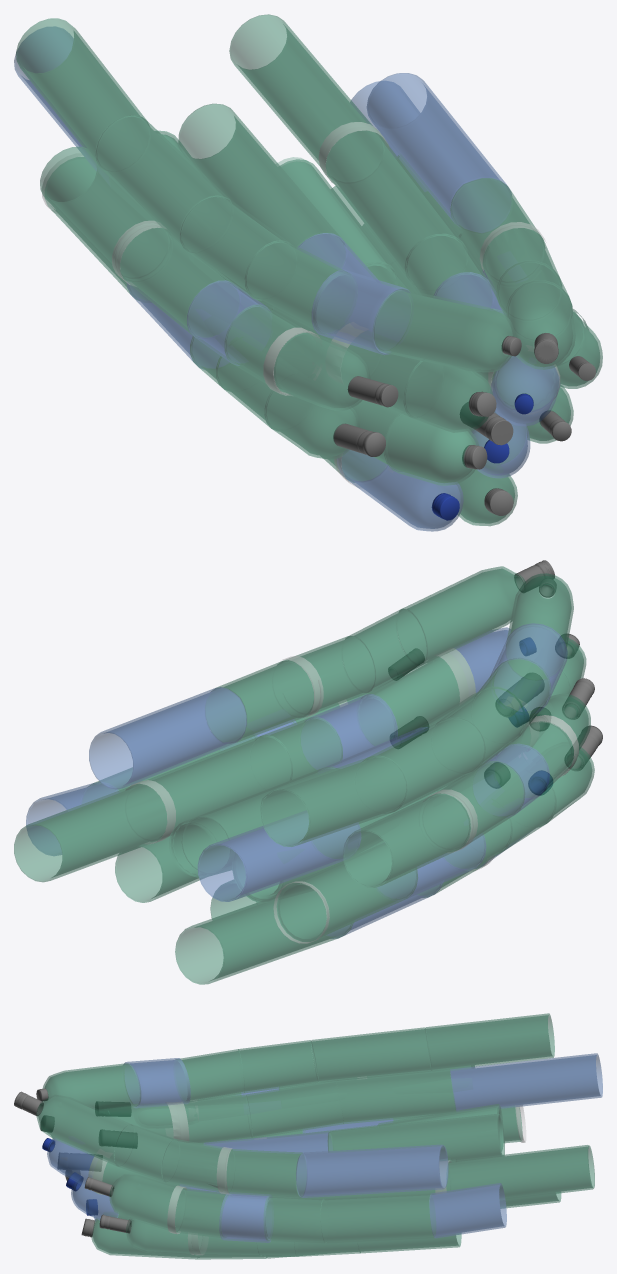
File: WebBoat.glb
3 renders of one model, top to bottom at view 1: azimuth 30°, elevation 25°; view 2: azimuth 150°, elevation 25°; view 3: azimuth 270°, elevation 25°, orthographic. The views are drawn at different scales.
Parts seen in each view (by area): view 1: polySurface206, polySurface24, polySurface194, polySurface121, polySurface8, polySurface12, polySurface42, polySurface19, polySurface50, polySurface14, polySurface16, polySurface17 (+41 smaller); view 2: polySurface24, polySurface206, polySurface127, polySurface194, polySurface8, polySurface82, polySurface42, polySurface72, polySurface12, polySurface39, polySurface29, polySurface32 (+37 smaller); view 3: polySurface24, polySurface82, polySurface206, polySurface8, polySurface121, polySurface175, polySurface84, polySurface12, polySurface39, polySurface86, polySurface29, polySurface19 (+38 smaller).
Part boxes in pixels (box(x1,y1,x2,y2)): polySurface206: box(229, 14, 384, 181); polySurface24: box(366, 73, 511, 232); polySurface194: box(325, 130, 467, 289); polySurface121: box(178, 103, 345, 268); polySurface8: box(16, 18, 149, 170); polySurface12: box(95, 115, 231, 252); polySurface42: box(40, 146, 171, 281); polySurface19: box(373, 289, 515, 372); polySurface50: box(117, 225, 239, 338); polySurface14: box(180, 195, 295, 300); polySurface16: box(244, 240, 355, 334); polySurface17: box(311, 269, 410, 355); polySurface24: box(89, 687, 246, 789); polySurface206: box(14, 783, 167, 882); polySurface127: box(175, 891, 354, 984); polySurface194: box(126, 735, 292, 841); polySurface8: box(260, 755, 407, 846); polySurface82: box(197, 810, 361, 901); polySurface42: box(343, 792, 473, 887); polySurface72: box(278, 843, 417, 941); polySurface12: box(356, 717, 485, 813); polySurface39: box(396, 566, 525, 664); polySurface29: box(205, 660, 314, 743); polySurface32: box(273, 636, 375, 717); polySurface24: box(296, 1144, 448, 1197); polySurface82: box(450, 1053, 602, 1111); polySurface206: box(446, 1145, 594, 1199); polySurface8: box(425, 1013, 554, 1070); polySurface121: box(327, 1113, 504, 1161); polySurface175: box(320, 1193, 435, 1243); polySurface84: box(336, 1069, 455, 1124); polySurface12: box(311, 1027, 431, 1082); polySurface39: box(36, 1094, 134, 1166); polySurface86: box(246, 1080, 343, 1138); polySurface29: box(225, 1149, 306, 1197); polySurface19: box(43, 1063, 140, 1110).
Bounding box in the file's own units: 2.6 × 1.89 × 5.02.
